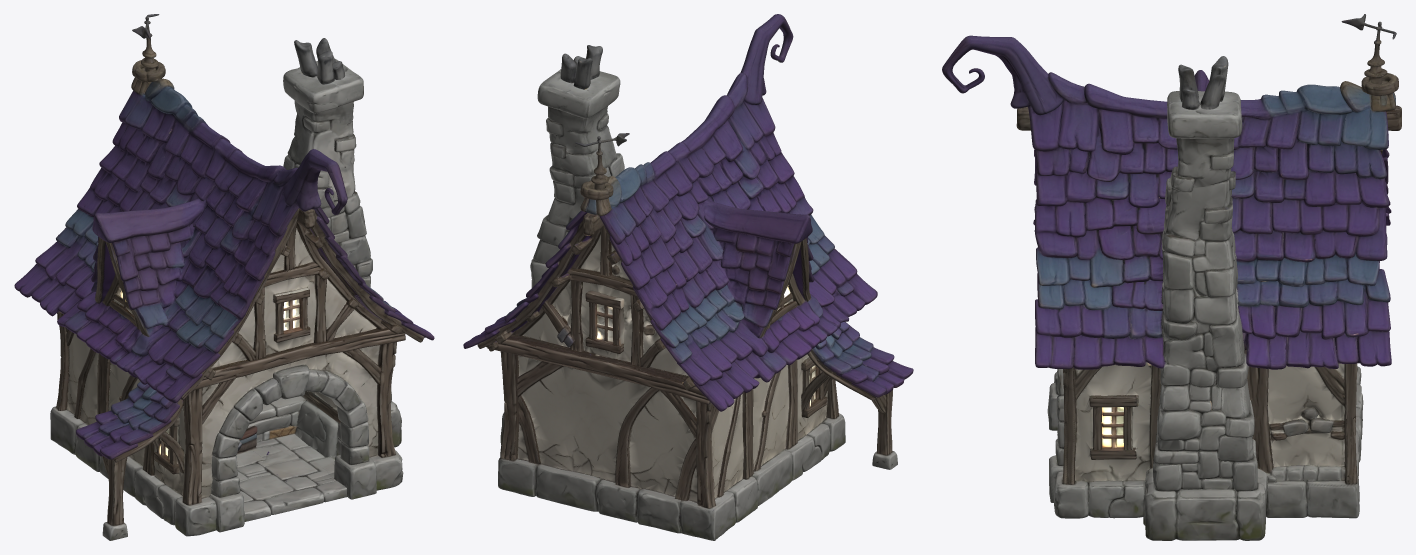
The model's file is SilverSmith_300k.glb.
3 renders of one model, left to right at view 1: azimuth 30°, elevation 25°; view 2: azimuth 150°, elevation 25°; view 3: azimuth 270°, elevation 25°, orthographic. The views are drawn at different scales.
Visible parts, largest first — view 1: Mesh_0; view 2: Mesh_0; view 3: Mesh_0.
Boxes of the visible parts, left/top/right/bottom form: Mesh_0: left=14, top=14, right=434, bottom=540; Mesh_0: left=463, top=14, right=913, bottom=540; Mesh_0: left=942, top=14, right=1401, bottom=540.
Bounding box in the file's own units: 1.66 × 1.9 × 1.78.
Materials: 1 (1 with a texture image).
